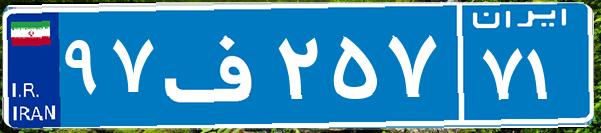1: (525, 38, 570, 115)
2: (273, 28, 330, 110)
5: (330, 28, 385, 110)
7: (385, 28, 445, 110), (475, 38, 525, 113), (110, 28, 158, 105)
9: (57, 26, 110, 107)
ف: (158, 15, 273, 115)
